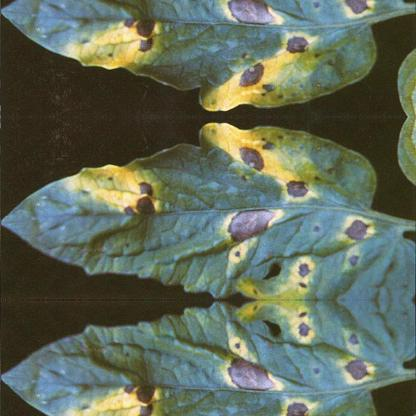Early-Blight: (52, 119, 392, 298), (52, 300, 391, 416), (52, 0, 391, 112)
